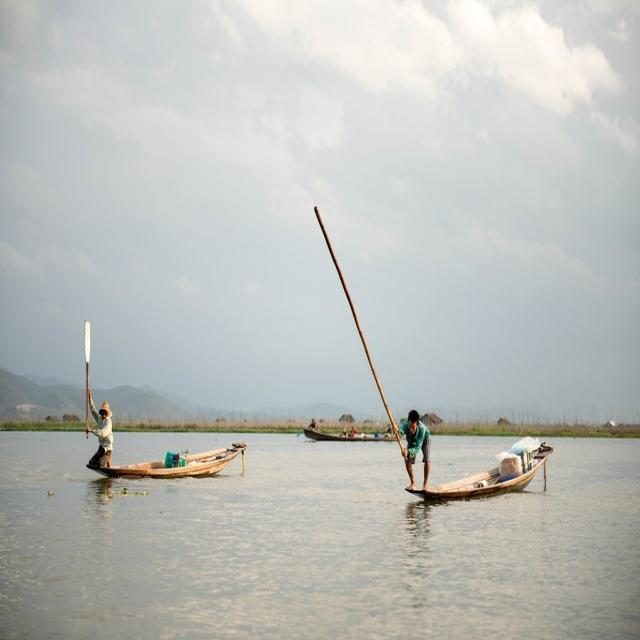boat: (399, 428, 585, 504), (95, 433, 265, 480), (294, 417, 412, 452)
